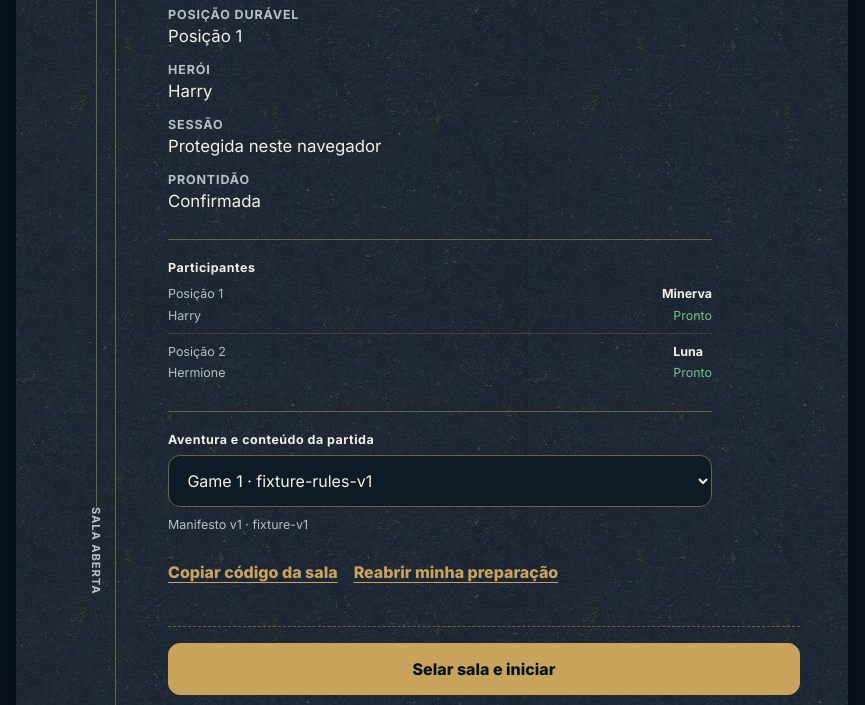
application shell › retries an uncertain start with the same idempotency key and locked selection
(page scrolled)
Click the button "Selar sala e iniciar" at (484, 669), box [168, 643, 800, 695]
(page scrolled)
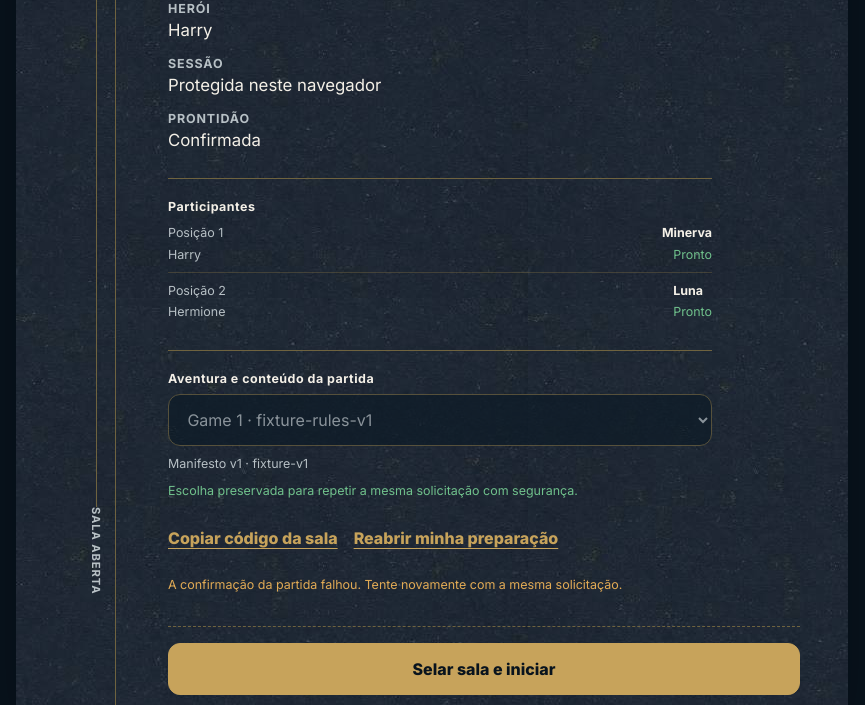
Result: the text "A confirmação da partida falhou. Tente novamente com a mesma solicitação." is shown at [168, 577, 622, 592]
Result: the dropdown labelled "Aventura e conteúdo da partida" is disabled at [168, 394, 712, 446]
Result: the text "Escolha preservada para repetir a mesma solicitação com segurança." is shown at [168, 483, 578, 498]
Click the button "Selar sala e iniciar" at (484, 669), box [168, 643, 800, 695]
(page scrolled)
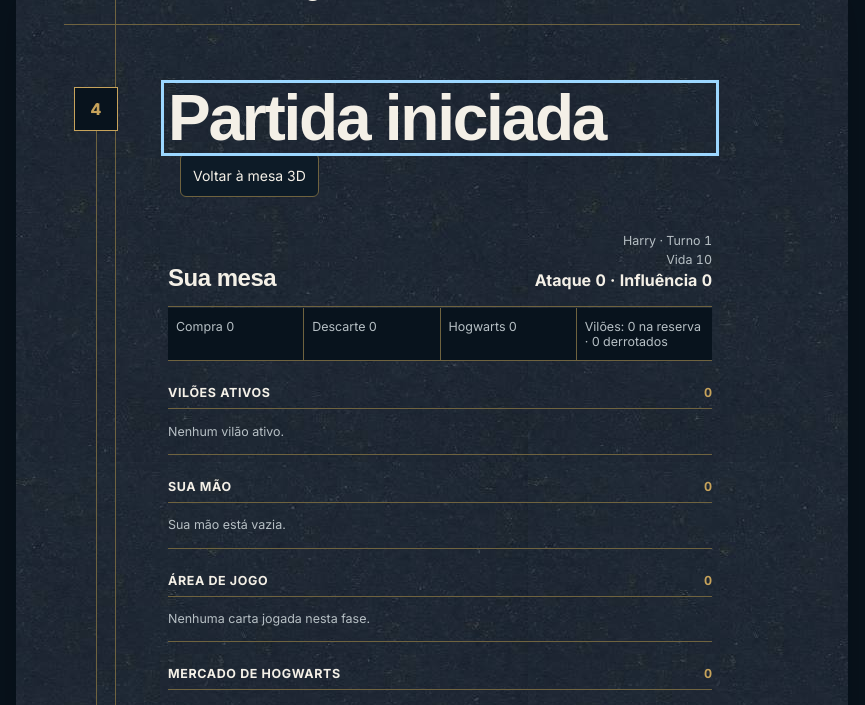
Result: the heading "Partida iniciada" is shown at [168, 82, 605, 154]
